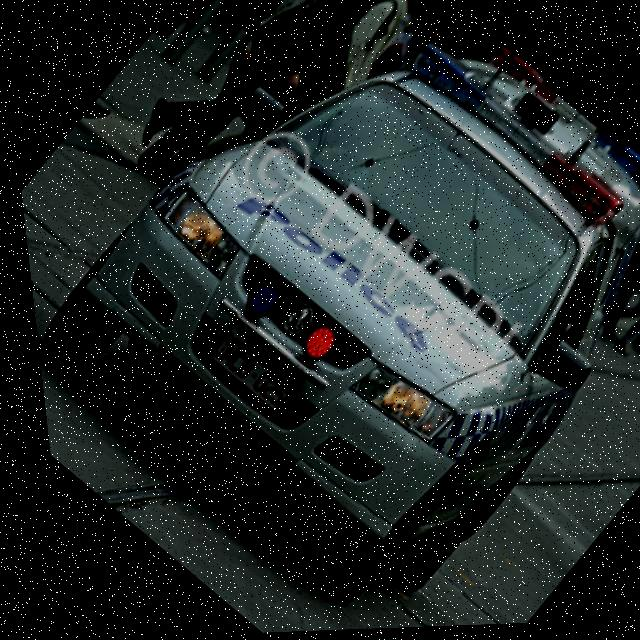license_plate: (198, 330, 288, 413)
